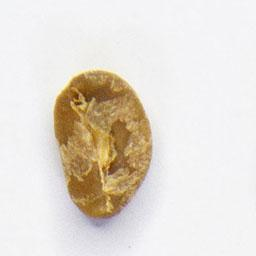defect: (51, 66, 157, 222)
